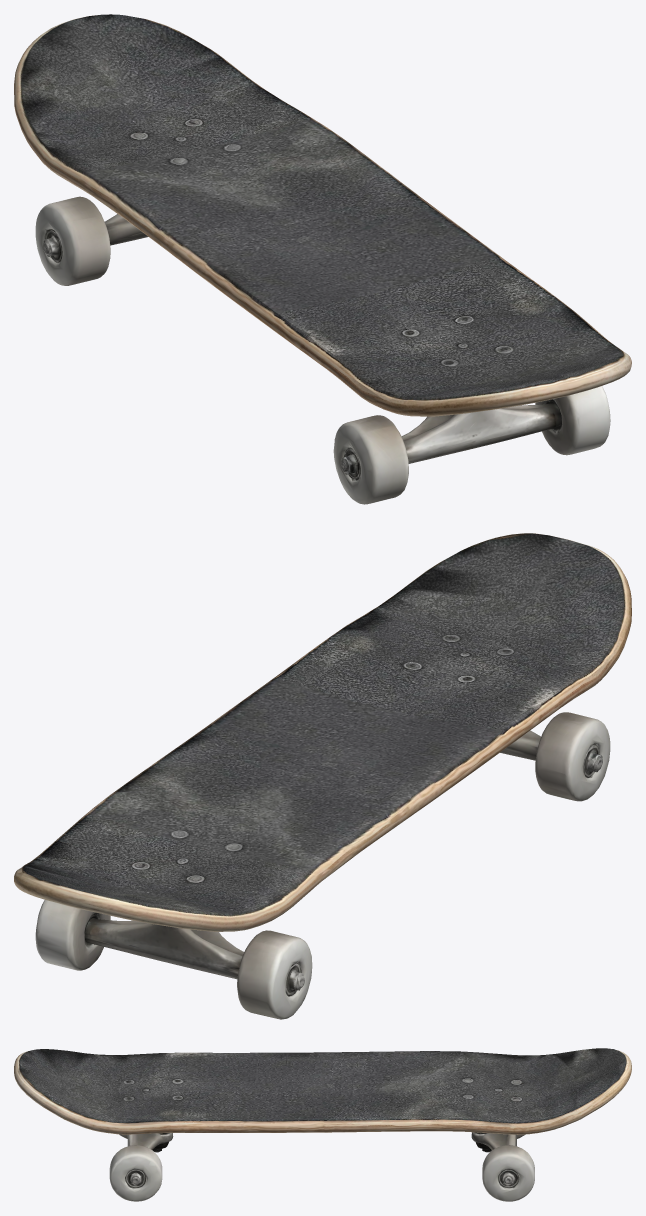
File: CCG_Board.fbx
3 renders of one model, top to bottom at view 1: azimuth 30°, elevation 25°; view 2: azimuth 150°, elevation 25°; view 3: azimuth 270°, elevation 25°, orthographic. The views are drawn at different scales.
Visible parts, largest first — view 1: tripo_node_44905d24-5a13-4ebd-8891-6a357165fbb8; view 2: tripo_node_44905d24-5a13-4ebd-8891-6a357165fbb8; view 3: tripo_node_44905d24-5a13-4ebd-8891-6a357165fbb8.
Boxes of the visible parts, left/top/right/bottom form: tripo_node_44905d24-5a13-4ebd-8891-6a357165fbb8: left=14, top=14, right=631, bottom=504; tripo_node_44905d24-5a13-4ebd-8891-6a357165fbb8: left=14, top=533, right=631, bottom=1019; tripo_node_44905d24-5a13-4ebd-8891-6a357165fbb8: left=14, top=1048, right=631, bottom=1201.
Bounding box in the file's own units: 0.2906 × 0.1839 × 0.9798.
Materials: 1 (1 with a texture image).
